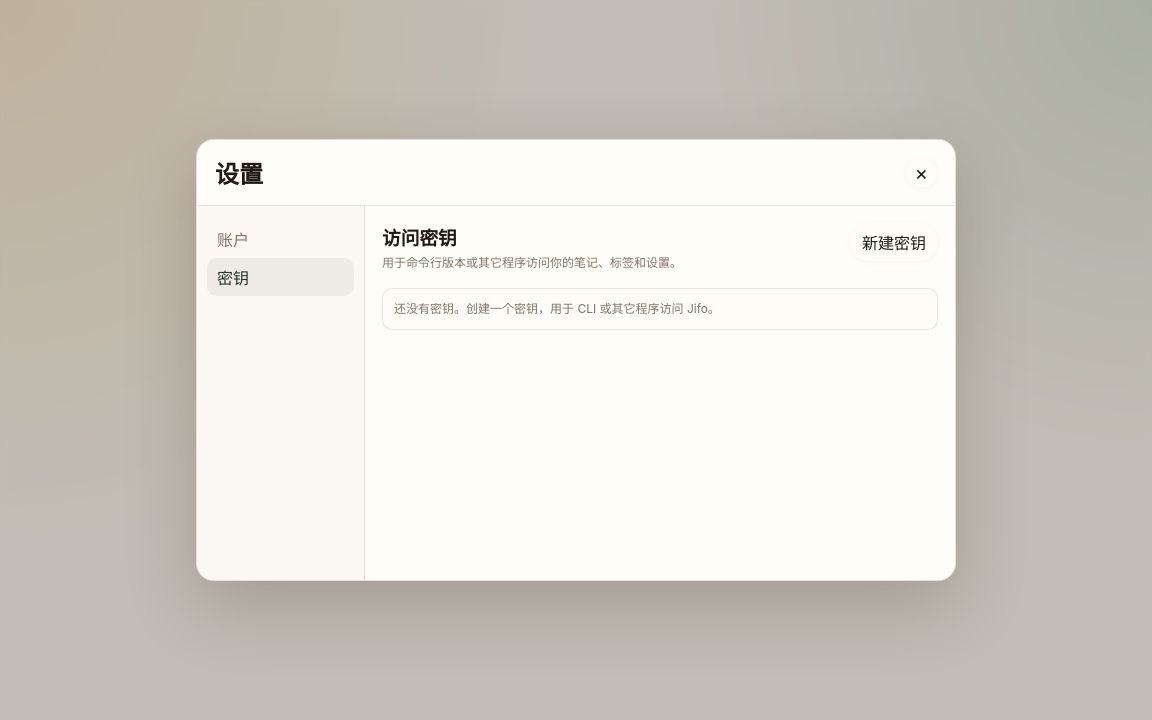
it: SettingsModal › 无效有效期会显示错误且不会静默创建永久密钥
Click the button "新建密钥". click: (894, 242)
box: [850,223,938,261]
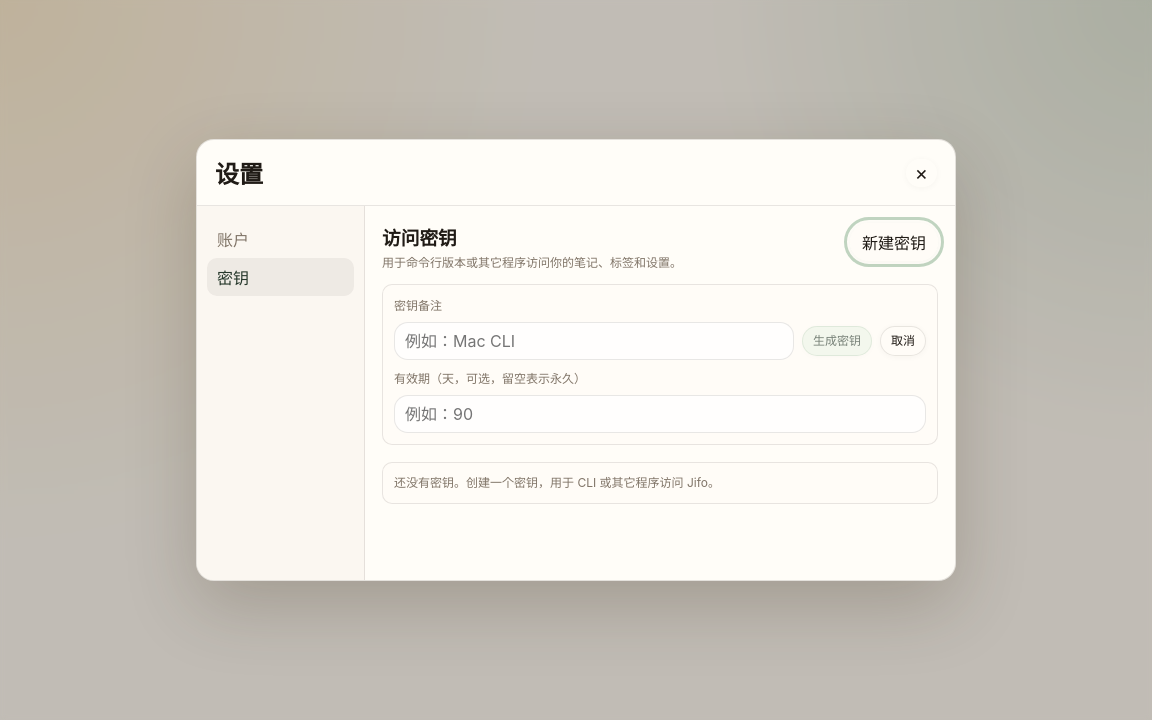
Type "CLI" into the field labelled "密钥备注". click: (594, 341)
box: [394,322,794,360]
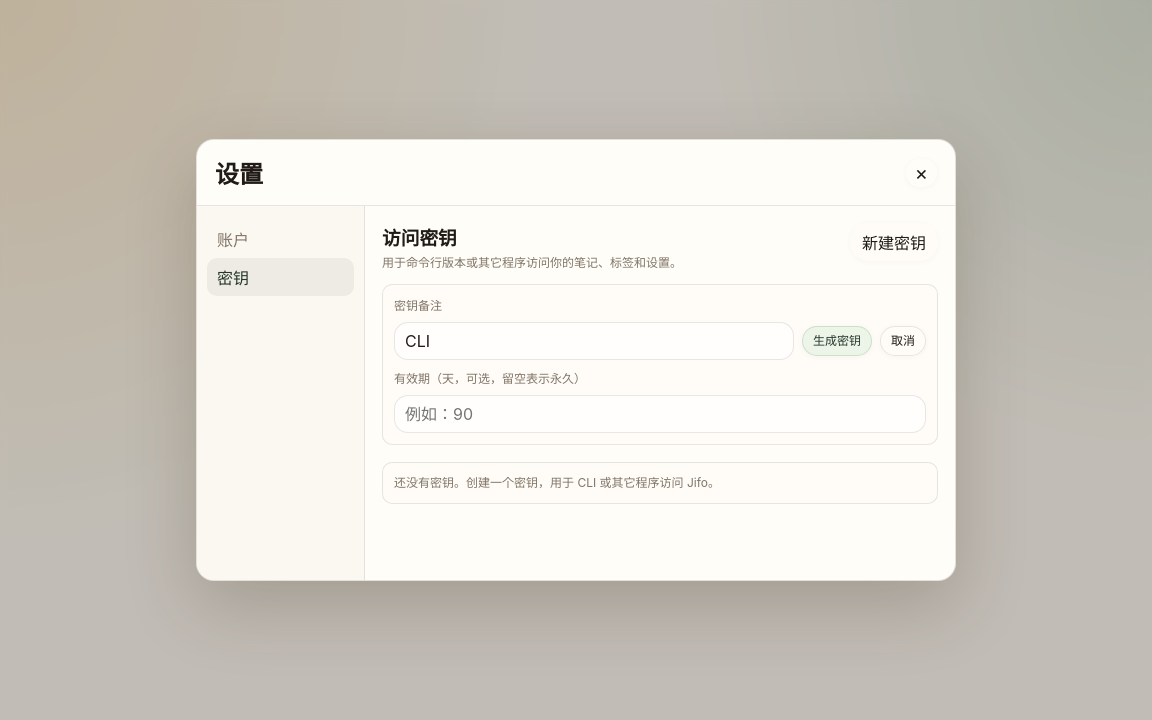
Type "1.5" into the number field labelled "有效期（天，可选，留空表示永久）". click: (660, 414)
box: [394,395,926,433]
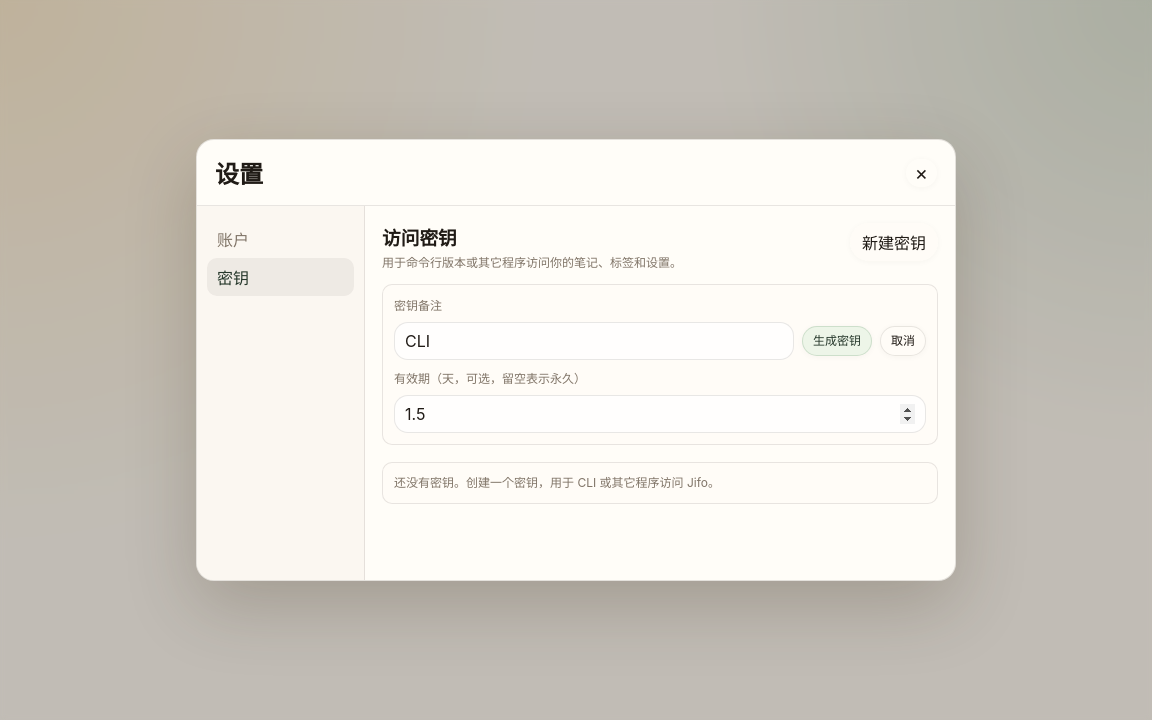
Click the button "生成密钥". click: (837, 341)
box: [802,326,872,356]
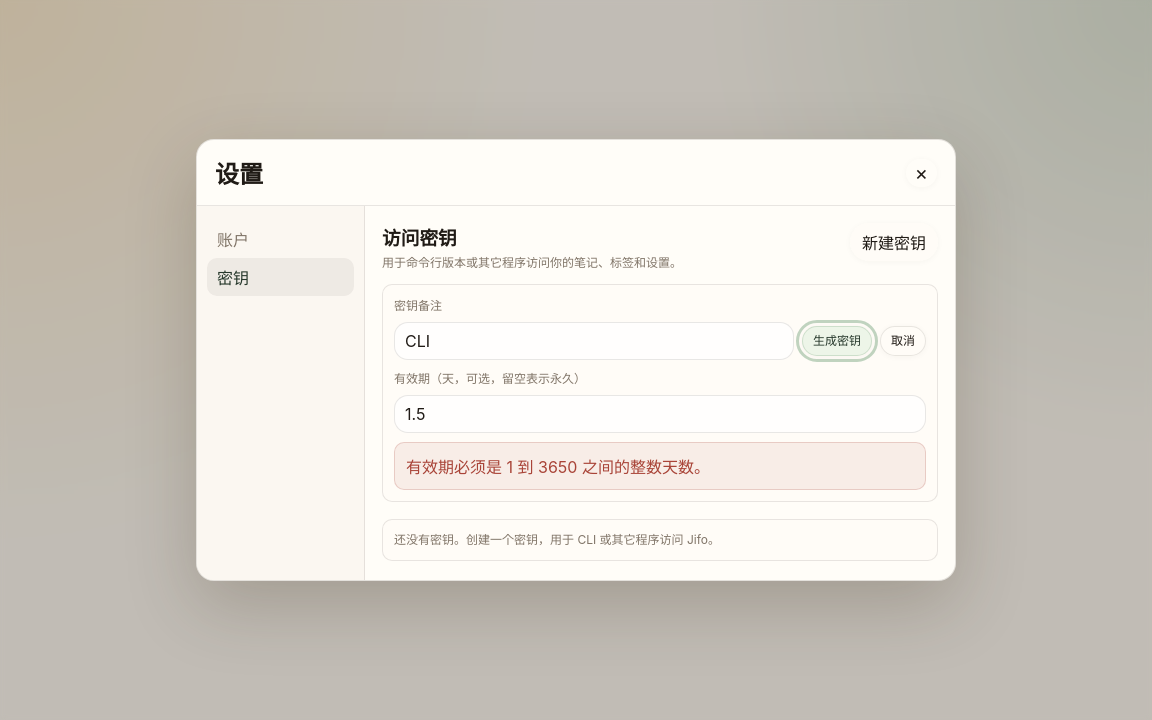
Check: the message shows "有效期必须是 1 到 3650 之间的整数天数", box [406,457,710,477]
